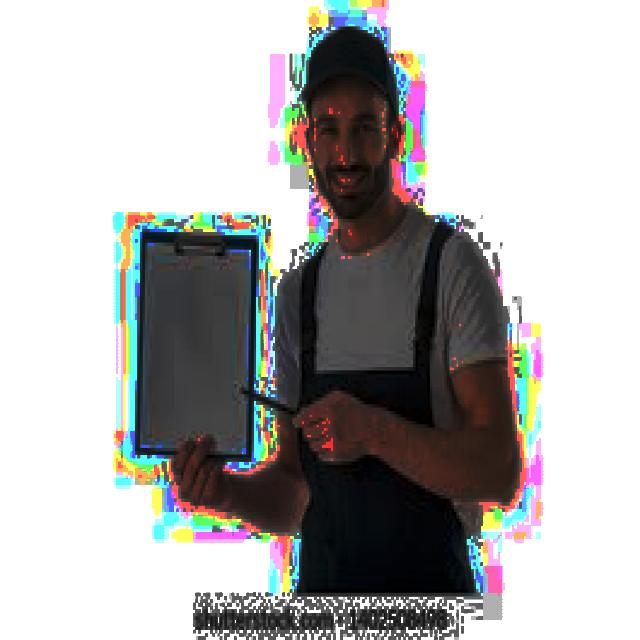TOPI: (297, 20, 403, 118)
